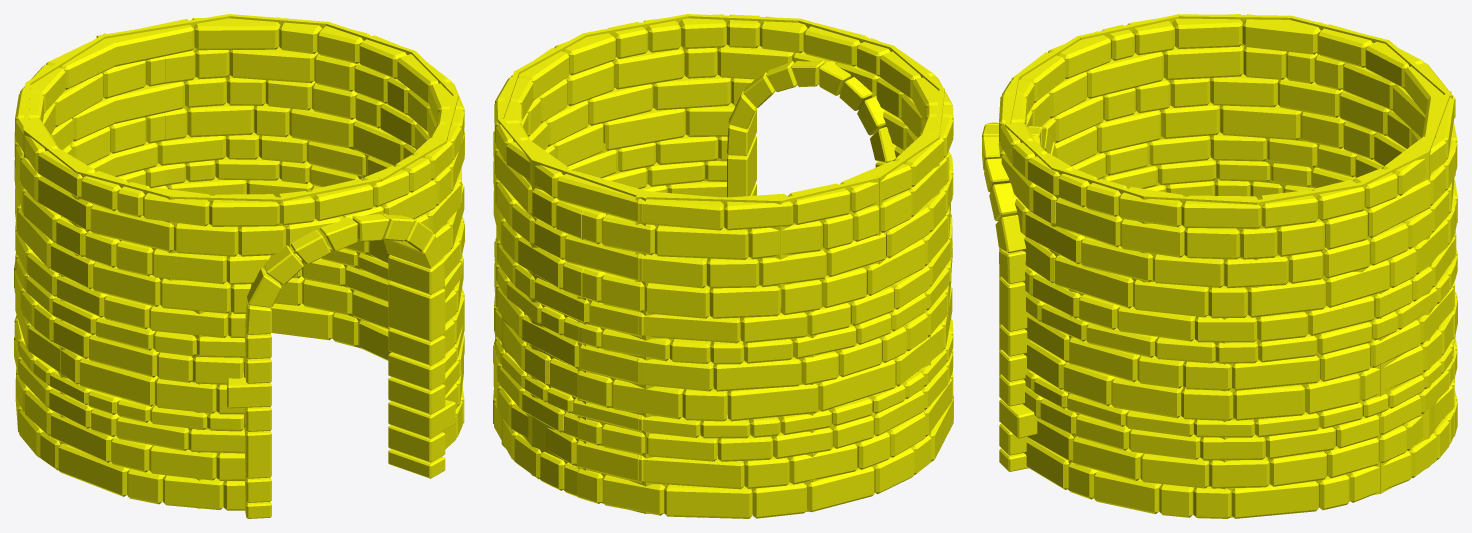
Rendered from base-section-with-doorway-low-detail.glb.
3 views of the same model, side by side, from view 1: azimuth 30°, elevation 25°; view 2: azimuth 150°, elevation 25°; view 3: azimuth 270°, elevation 25° (orthographic). The views are drawn at different scales.
Parts seen in each view (by area): view 1: main-wall.001, doorframe.003, grout-wall.005; view 2: main-wall.001, grout-wall.005, doorframe.003; view 3: main-wall.001, doorframe.003, grout-wall.005.
Part boxes in pixels (<box>): main-wall.001: <box>14,17,464,510</box>; doorframe.003: <box>227,213,455,518</box>; grout-wall.005: <box>23,14,458,508</box>; main-wall.001: <box>493,14,953,518</box>; grout-wall.005: <box>498,14,944,513</box>; doorframe.003: <box>727,60,895,197</box>; main-wall.001: <box>998,14,1457,518</box>; doorframe.003: <box>982,122,1057,471</box>; grout-wall.005: <box>1005,14,1452,517</box>.
Size of the model in its own units: 2.9 by 2.19 by 2.99.
